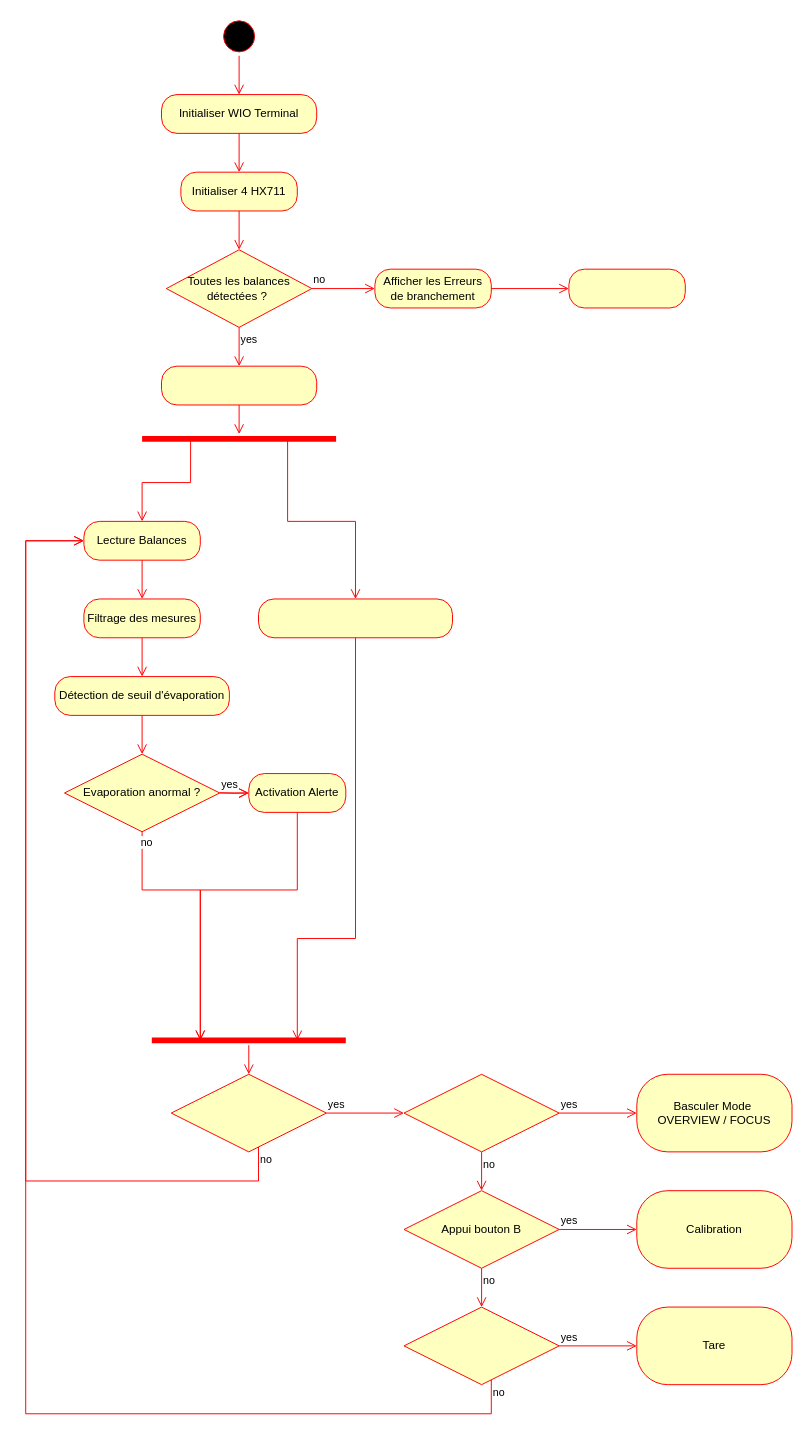
This 809x1440 diagram has some shape labels left out. Here are the shapes that lost their labels. From the top down, the box of each, then its label:
(568, 268, 685, 308): Continuer avec les balances détectées
(161, 365, 317, 405): Entrer en Mode OVERVIEW
(258, 598, 453, 638): Gestion des boutons & Joystick
(170, 1073, 326, 1152): Action utilisateur ?
(403, 1073, 559, 1152): Appui bouton C
(403, 1306, 559, 1385): Appui bouton A
